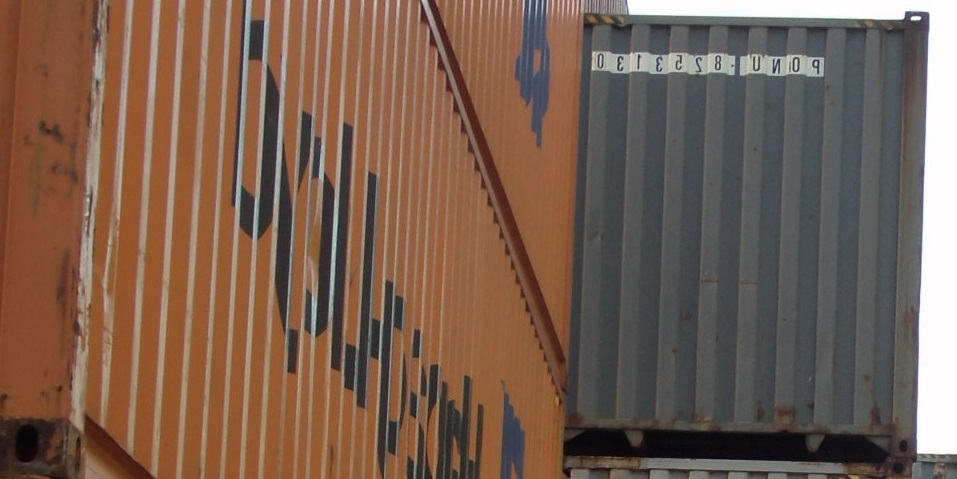container_no_door: (560, 8, 925, 443)
